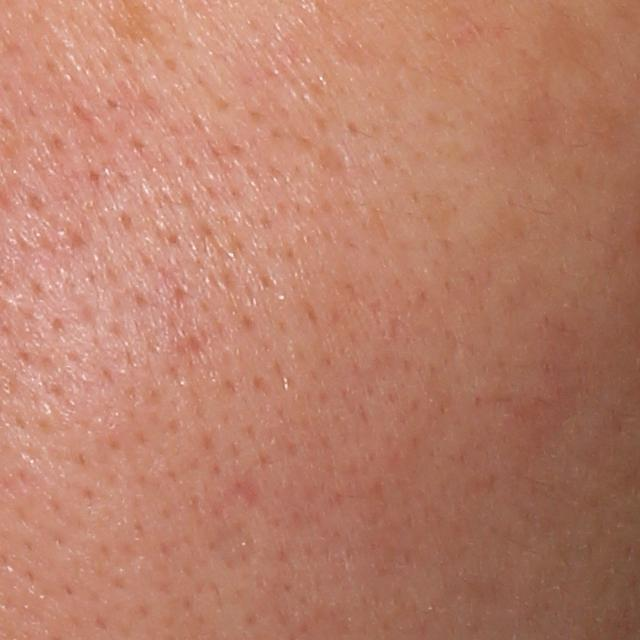atrophic_scar: (201, 523, 265, 571), (317, 147, 352, 181)
